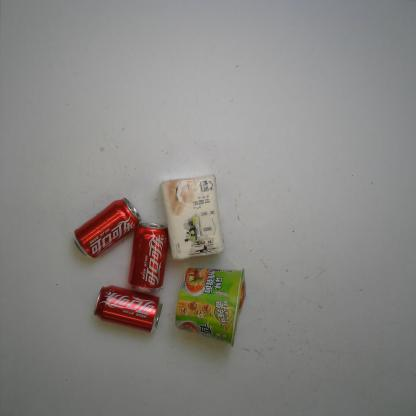Drink: (70, 197, 141, 260), (94, 285, 164, 335), (128, 221, 168, 294)
Instant Noodles: (174, 267, 246, 347)
Tissue: (159, 175, 225, 260)
